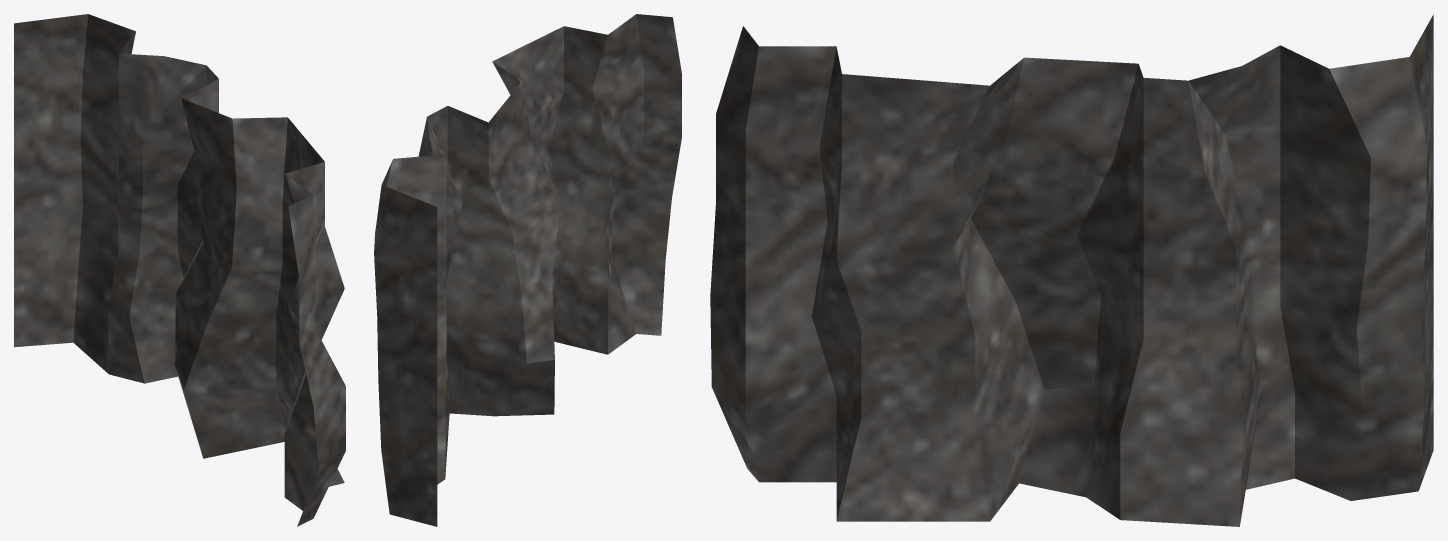
The model's file is Cliff_small.fbx.
The picture shows the model from 3 angles, left to right: view 1: azimuth 30°, elevation 25°; view 2: azimuth 150°, elevation 25°; view 3: azimuth 270°, elevation 25°; orthographic projection. The views are drawn at different scales.
Visible parts, largest first — view 1: Plane_2; view 2: Plane_2; view 3: Plane_2.
Boxes of the visible parts, box(x1,y1,x2,y2) form: Plane_2: box(14, 14, 345, 526); Plane_2: box(374, 14, 681, 526); Plane_2: box(710, 14, 1433, 526).
Bounding box in the file's own units: 51.79 × 141 × 206.
1 material, 1 textured.
